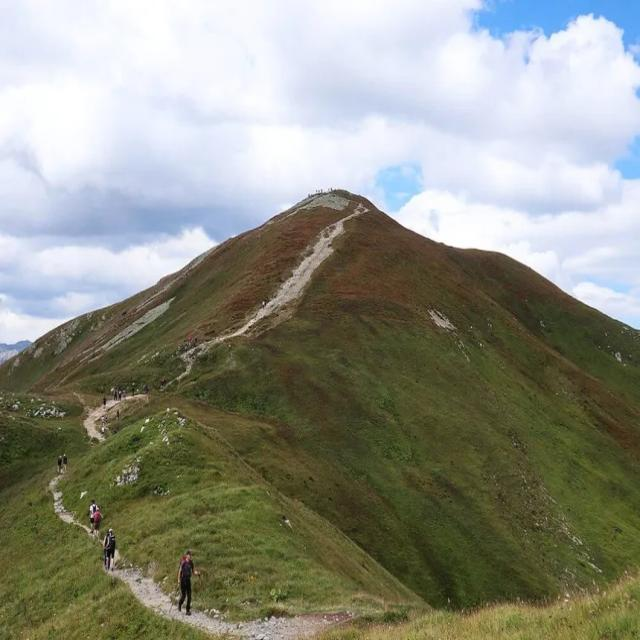Kopa Kondracka: (214, 95, 466, 293)
